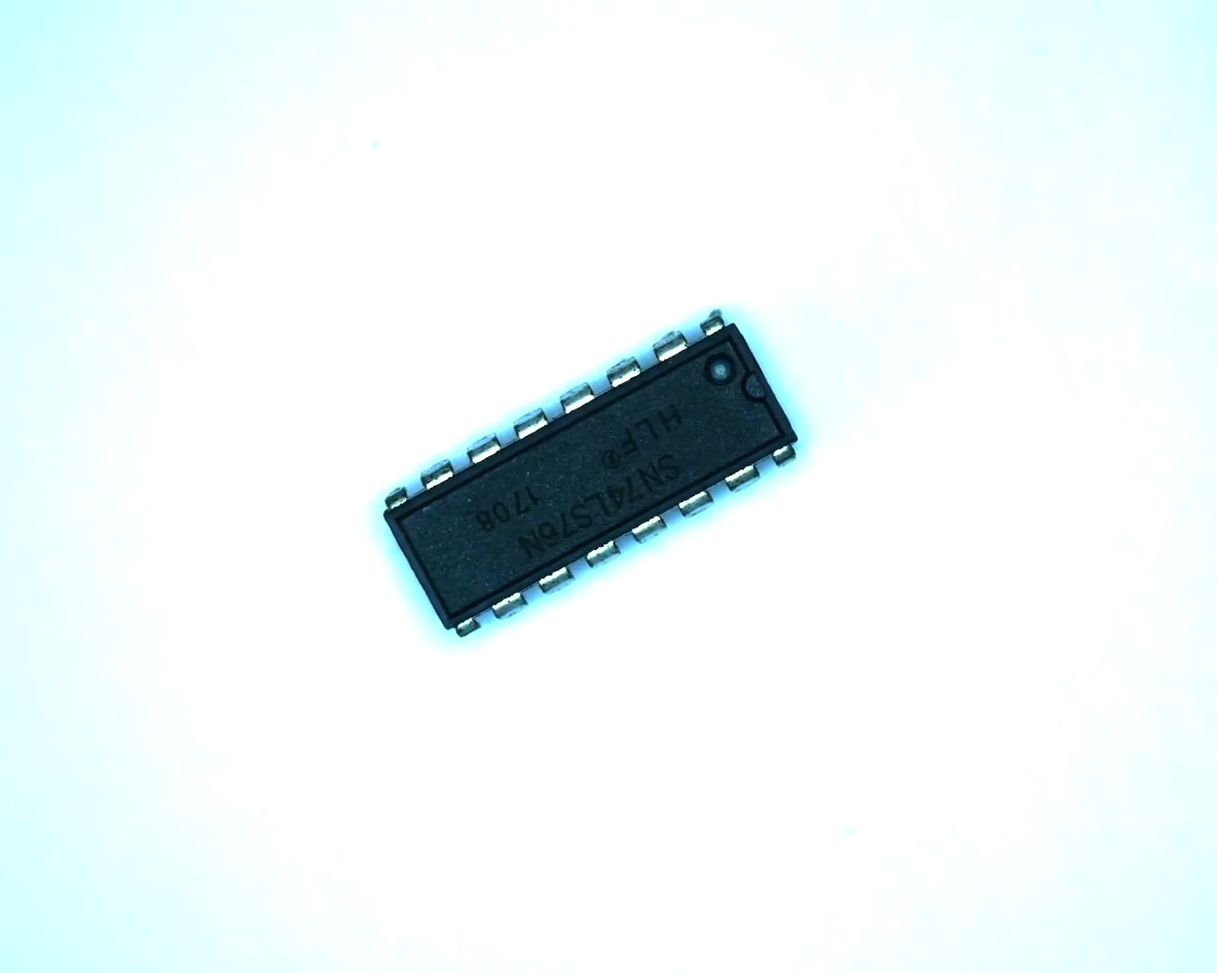IC: (367, 293, 818, 654)
notch: (736, 367, 777, 406)
